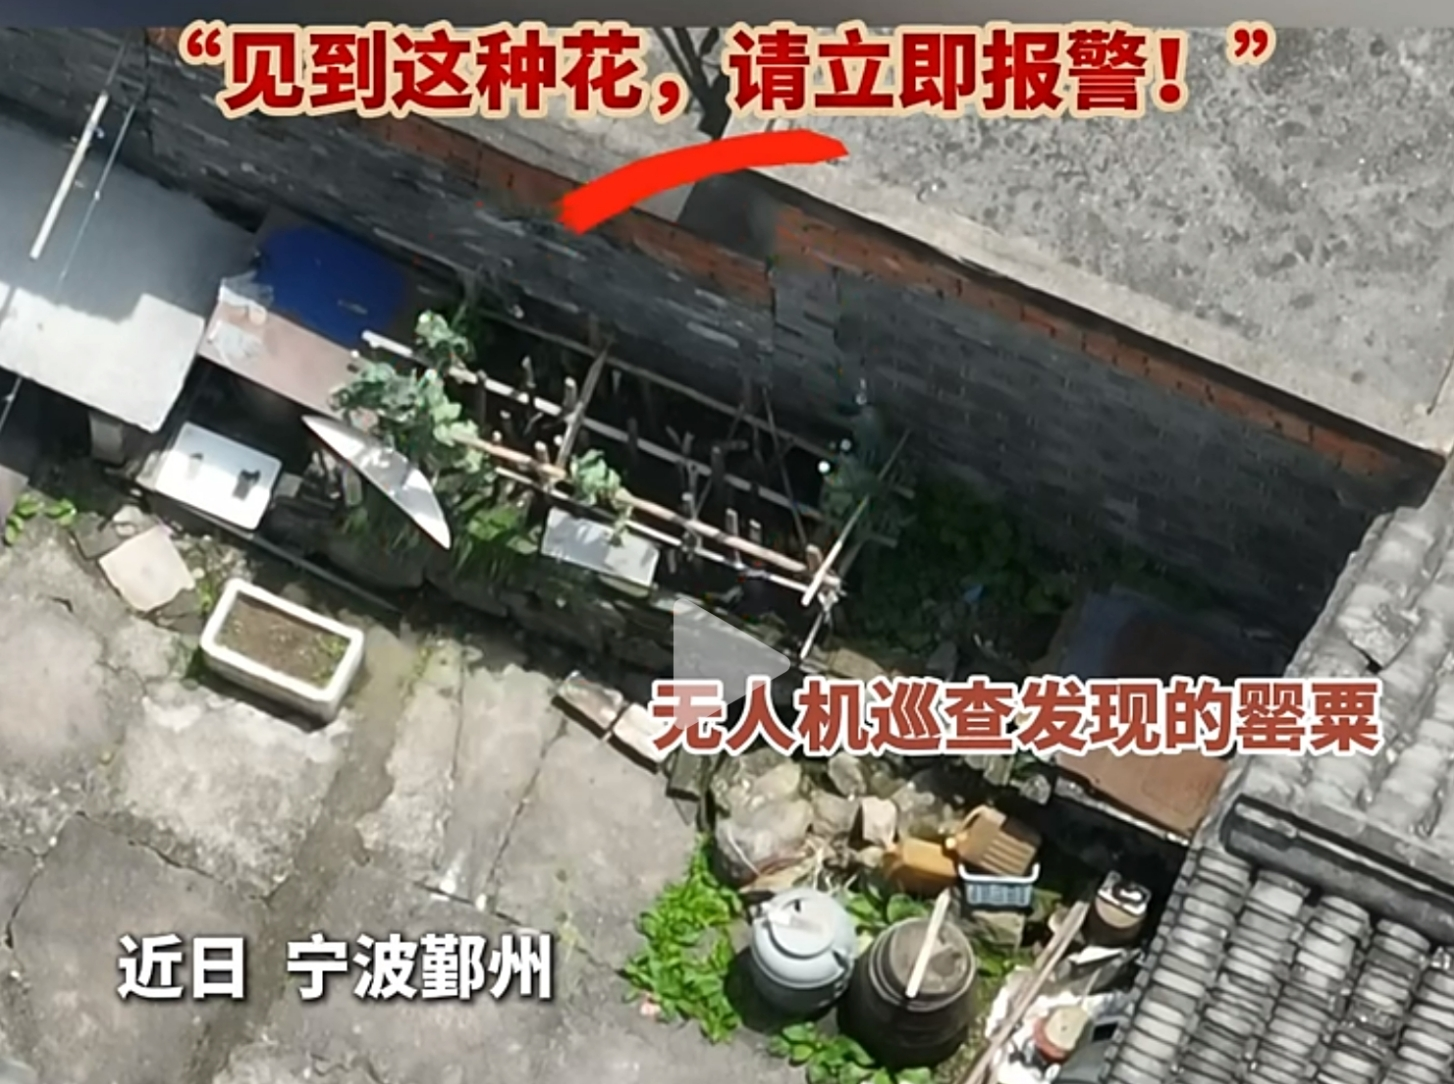Poppy: (330, 307, 511, 567), (813, 372, 899, 543)
